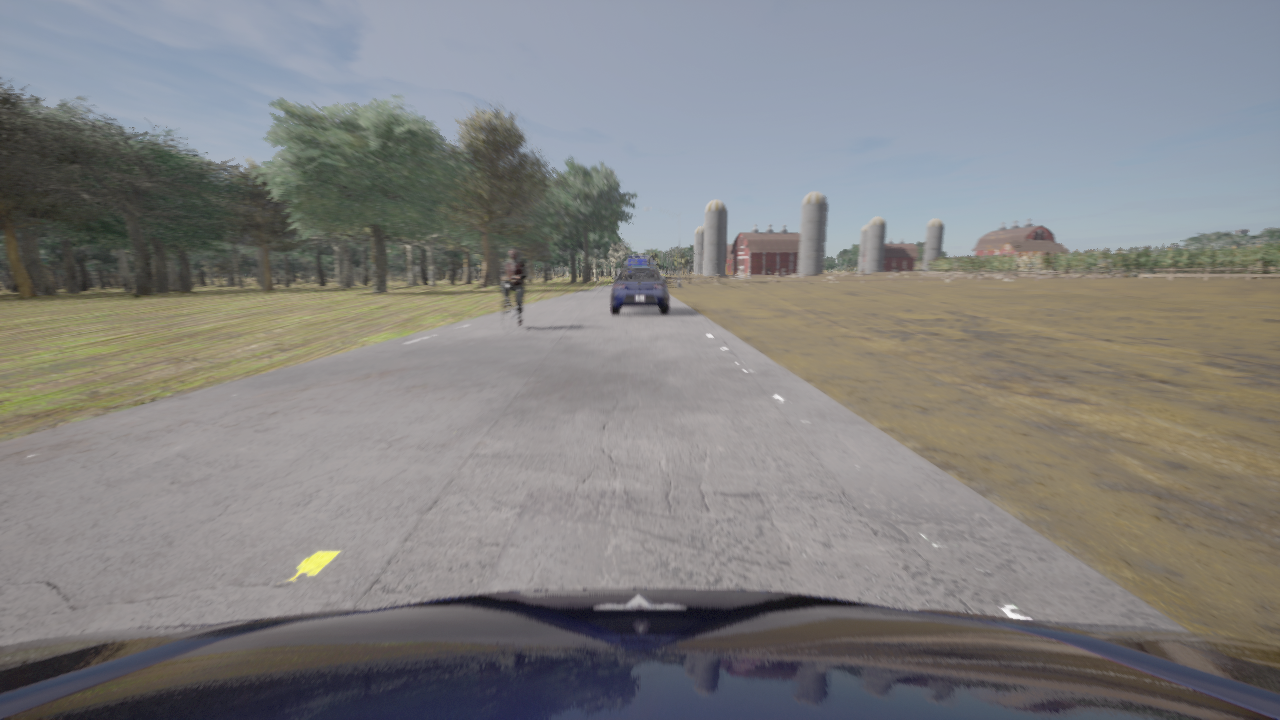cyclist: (0, 588, 1279, 719), (611, 266, 668, 314), (502, 278, 523, 332), (624, 254, 655, 266)
